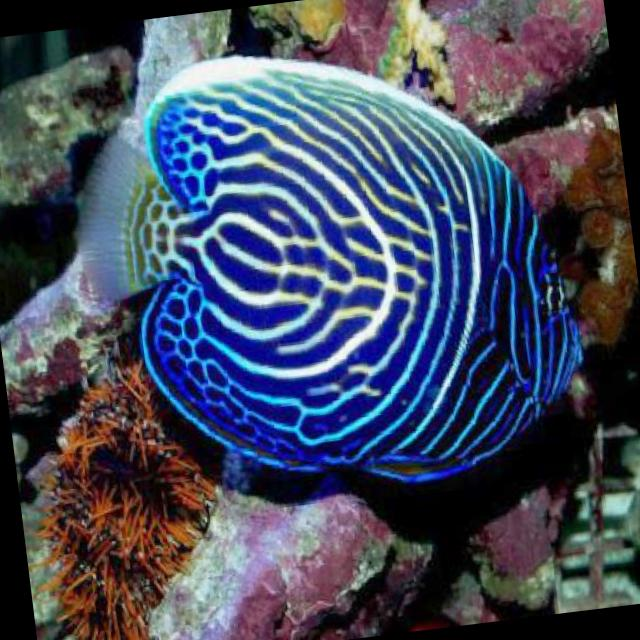AngelFish: (59, 18, 598, 520)
